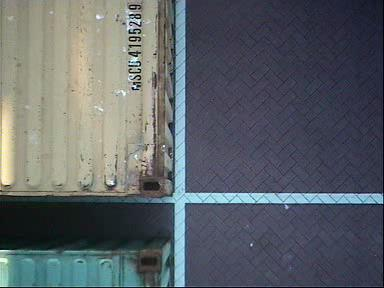groundmarker_2: (162, 122, 244, 239)
